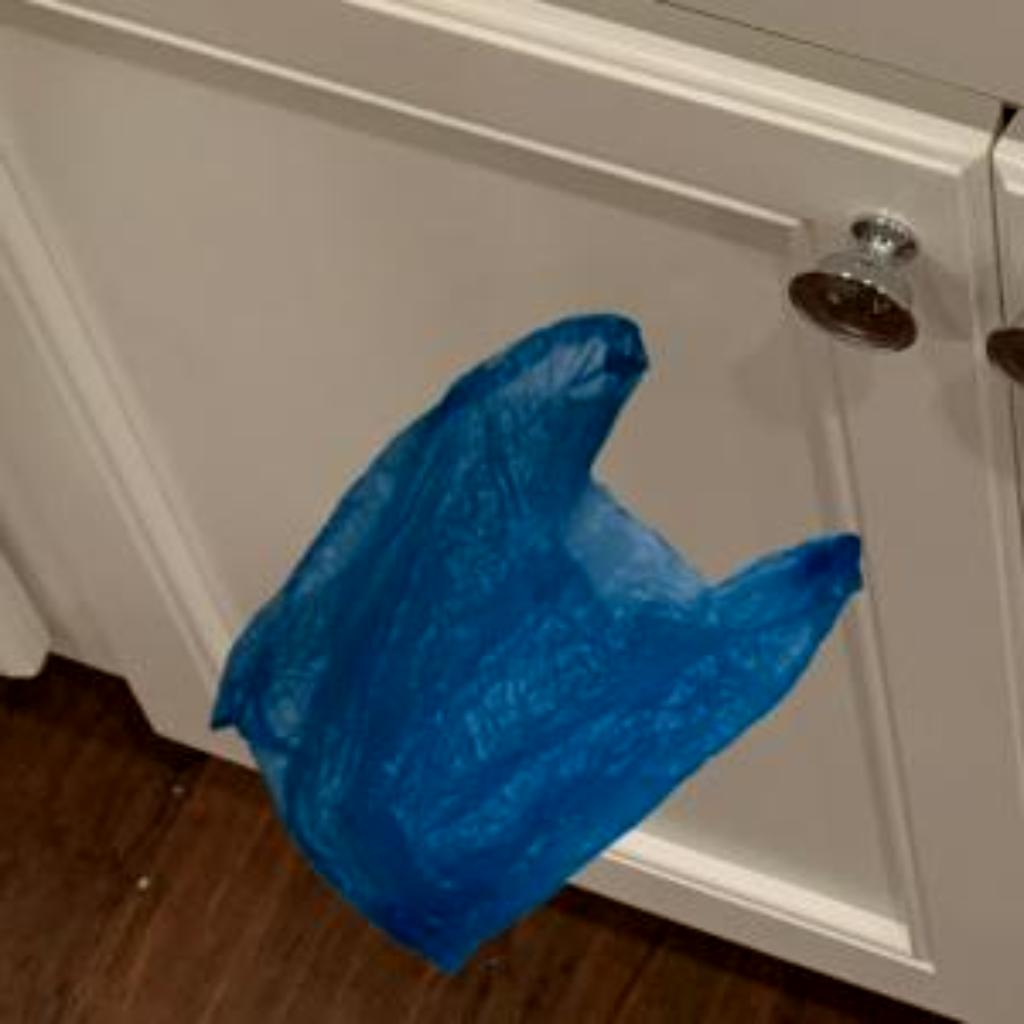garbage: (196, 276, 862, 980)
